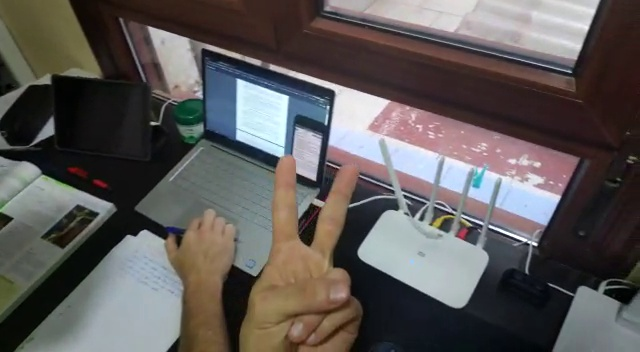Peace: (247, 146, 369, 352)
